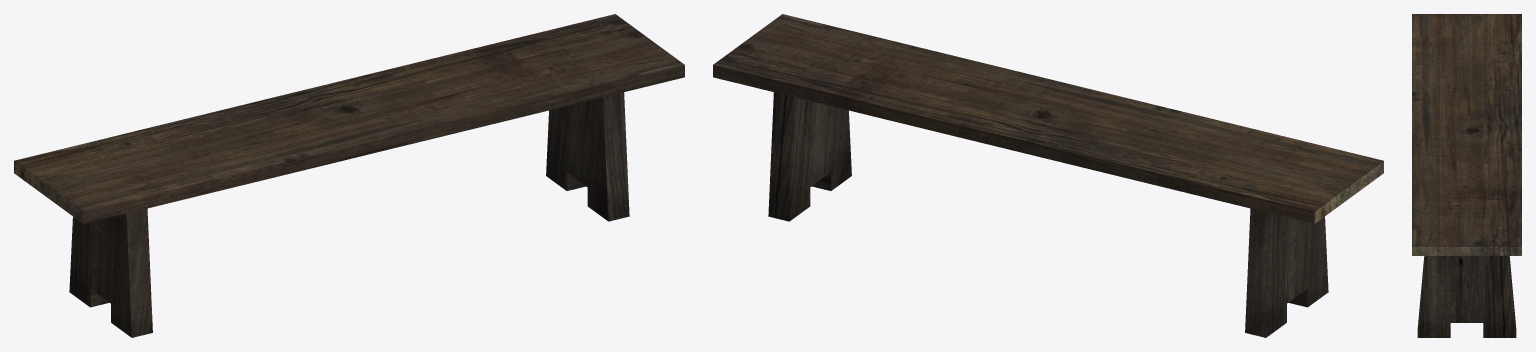
Rendered from Bench.fbx.
3 renders of one model, left to right at view 1: azimuth 30°, elevation 25°; view 2: azimuth 150°, elevation 25°; view 3: azimuth 270°, elevation 25°, orthographic. The views are drawn at different scales.
Size of the model in its own units: 10 by 2.25 by 2.
